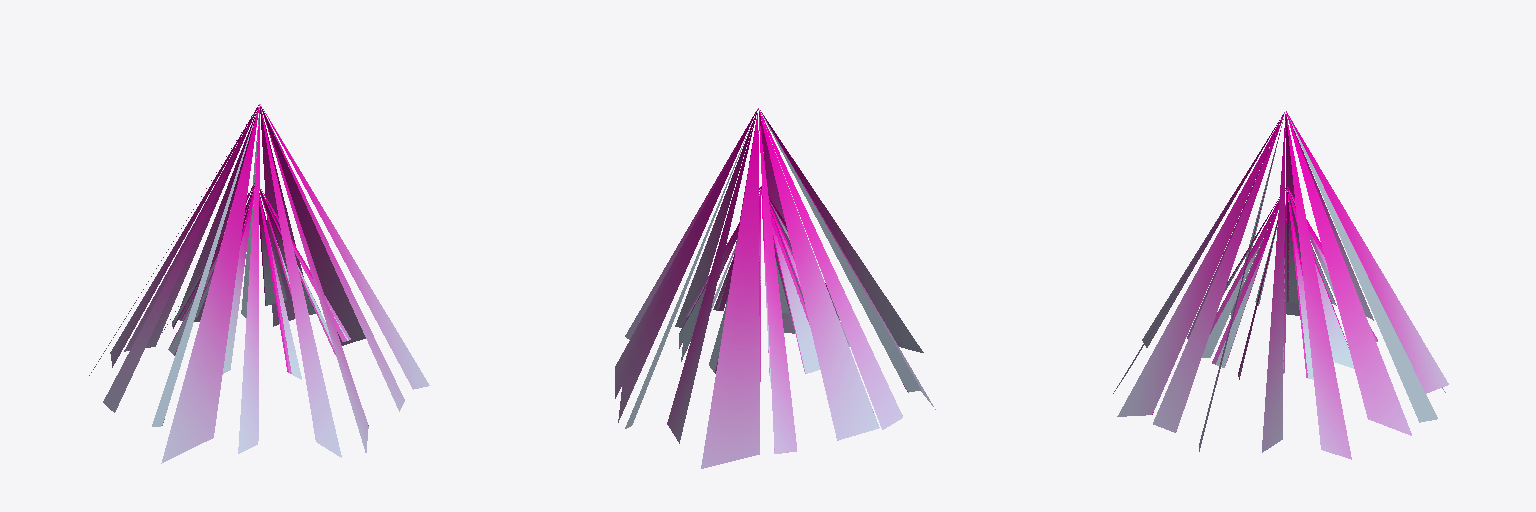
The picture shows the model from 3 angles: view 1: azimuth 30°, elevation 25°; view 2: azimuth 150°, elevation 25°; view 3: azimuth 270°, elevation 25°; orthographic projection.
Parts seen in each view (by area): view 1: Cone; view 2: Cone; view 3: Cone.
Boxes of the visible parts, x1=… form: Cone: x1=89, y1=104, x2=429, y2=463; Cone: x1=615, y1=108, x2=935, y2=468; Cone: x1=1113, y1=111, x2=1448, y2=459.
Bounding box in the file's own units: 2.07 × 2.07 × 2.13.
1 materials, 1 textured.